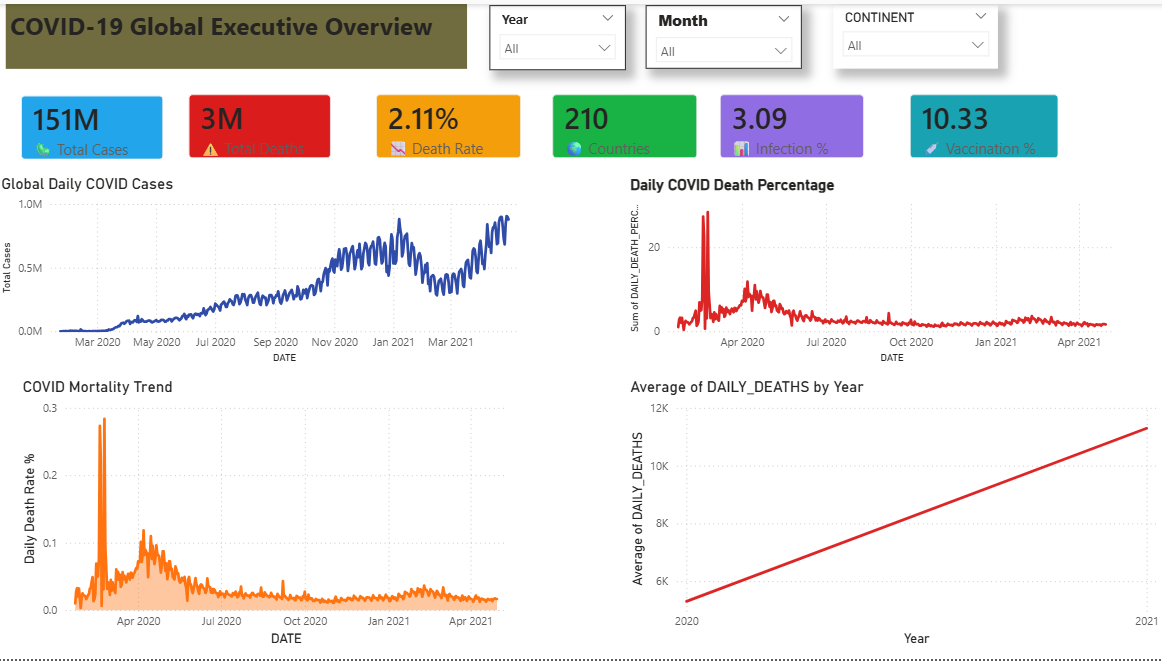

Layout of this report page (visuals, bound fields, positions):
{"tool":"powerbi","page":{"name":"Page 1","canvas":[1280,720],"ordinal":0},"visuals":[{"type":"textbox","box":[100.2,0,299.1,50.8],"z":0},{"type":"textbox","box":[9.6,0,506.3,71.4],"z":1000},{"type":"cardVisual","fields":{"Data":["VW_GLOBAL_DAILY.Total Deaths"]},"box":[193.5,82.3,190.7,104.3],"z":2000},{"type":"cardVisual","fields":{"Data":["VW_GLOBAL_DAILY.Death Rate %"]},"box":[399.3,82.3,193.5,104.3],"z":3000},{"type":"cardVisual","fields":{"Data":["VW_CONTINENT_STATS.Countries"]},"box":[592.8,82.3,193.5,104.3],"z":4000},{"type":"cardVisual","fields":{"Data":["VW_CONTINENT_STATS.Average Infection Rate"]},"box":[776.7,82.3,192.1,104.3],"z":5000},{"type":"cardVisual","fields":{"Data":["VW_VACCINATION_PROGRESS.Average Vaccination Rate"]},"box":[985.3,82.3,197.6,104.3],"z":6000},{"type":"lineChart","title":"Global Daily COVID Cases","fields":{"Y":["VW_GLOBAL_DAILY.Total Cases"],"Category":["VW_GLOBAL_DAILY.DATE"]},"box":[0,186.6,592.8,212.7],"z":7000},{"type":"lineChart","title":"Daily COVID Death Percentage","fields":{"Category":["VW_GLOBAL_DAILY.DATE"],"Y":["Sum(VW_GLOBAL_DAILY.DAILY_DEATH_PERCENTAGE)"]},"box":[690.2,188,557.1,211.3],"z":8000},{"type":"areaChart","title":"COVID Mortality Trend","fields":{"Category":["VW_GLOBAL_DAILY.DATE"],"Y":["VW_GLOBAL_DAILY.Daily Death Rate %"]},"box":[23.3,410.3,555.7,299.1],"z":9000},{"type":"slicer","fields":{"Values":["Calendar.Date.Variation.Date Hierarchy.Year"]},"box":[540.7,1.4,149.6,71.4],"z":10000},{"type":"slicer","fields":{"Values":["Calendar.Date.Variation.Date Hierarchy.Month"]},"box":[712.2,1.4,171.5,70],"z":11000},{"type":"slicer","fields":{"Values":["VW_CONTINENT_STATS.CONTINENT"]},"box":[918,1.4,181.1,70],"z":12000},{"type":"cardVisual","fields":{"Data":["VW_GLOBAL_DAILY.Total Cases"]},"box":[9.6,83.7,190.7,104.3],"z":13000},{"type":"lineChart","fields":{"Category":["Calendar.Date.Variation.Date Hierarchy.Year"],"Y":["Avg(VW_GLOBAL_DAILY.DAILY_DEATHS)"]},"box":[690.2,410.3,590.1,299.1],"z":14000}]}

Visuals, with their boxes in screenshot pixels (x1, y1, x2, y2), scaled from the page's 1280x720 canvas onto the 1162x663 screenshot:
textbox: bbox=(91, 0, 362, 47)
textbox: bbox=(9, 0, 468, 66)
cardVisual - VW_GLOBAL_DAILY.Total Deaths: bbox=(176, 76, 349, 172)
cardVisual - VW_GLOBAL_DAILY.Death Rate %: bbox=(362, 76, 538, 172)
cardVisual - VW_CONTINENT_STATS.Countries: bbox=(538, 76, 714, 172)
cardVisual - VW_CONTINENT_STATS.Average Infection Rate: bbox=(705, 76, 879, 172)
cardVisual - VW_VACCINATION_PROGRESS.Average Vaccination Rate: bbox=(894, 76, 1074, 172)
"Global Daily COVID Cases" lineChart: bbox=(0, 172, 538, 368)
"Daily COVID Death Percentage" lineChart: bbox=(627, 173, 1132, 368)
"COVID Mortality Trend" areaChart: bbox=(21, 378, 526, 653)
slicer - Calendar.Date.Variation.Date Hierarchy.Year: bbox=(491, 1, 627, 67)
slicer - Calendar.Date.Variation.Date Hierarchy.Month: bbox=(647, 1, 802, 66)
slicer - VW_CONTINENT_STATS.CONTINENT: bbox=(833, 1, 998, 66)
cardVisual - VW_GLOBAL_DAILY.Total Cases: bbox=(9, 77, 182, 173)
lineChart - Calendar.Date.Variation.Date Hierarchy.Year x Avg(VW_GLOBAL_DAILY.DAILY_DEATHS): bbox=(627, 378, 1161, 653)
